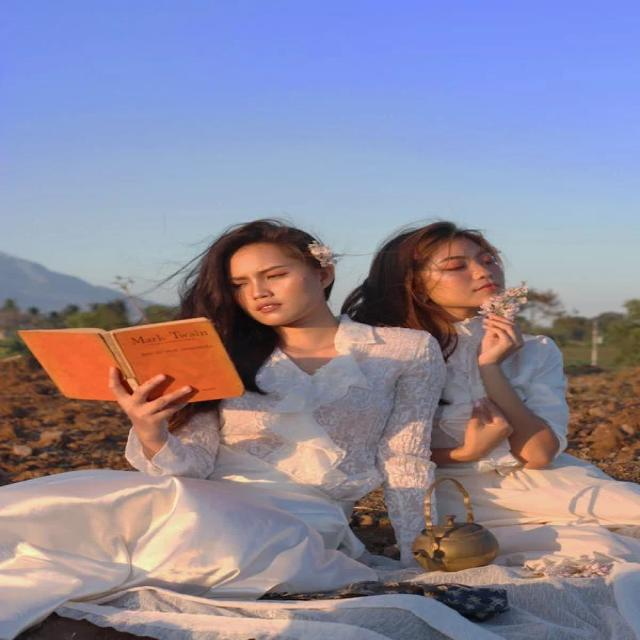Real human 2: (107, 199, 623, 640)
